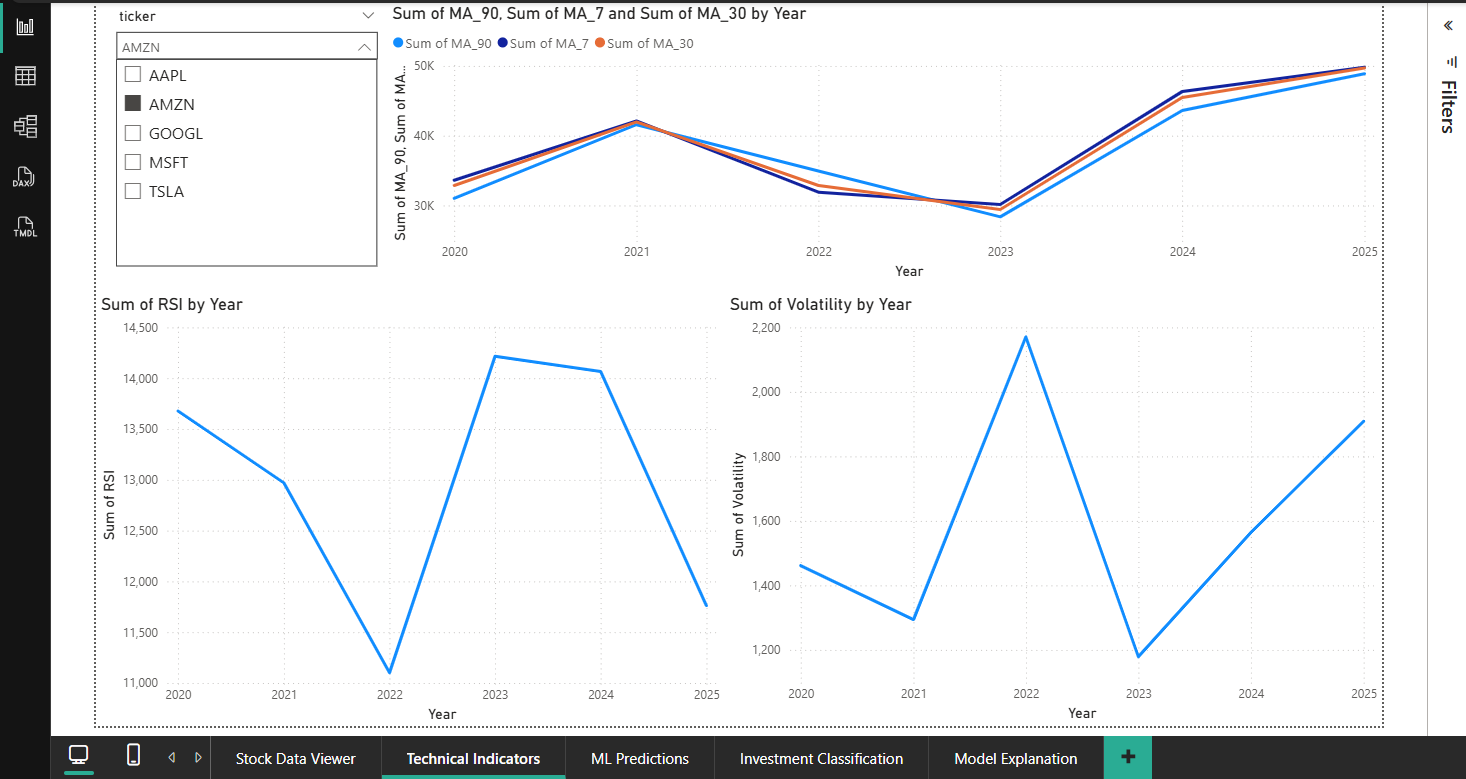

The dashboard page shown, as its layout file describes it:
{"tool":"powerbi","page":{"name":"Technical Indicators","canvas":[1280,720],"ordinal":1},"visuals":[{"type":"slicer","fields":{"Values":["technical_indicators.ticker"]},"box":[10,0,280,280],"z":0},{"type":"lineChart","fields":{"Category":["technical_indicators.date.Variation.Date Hierarchy.Year","technical_indicators.date.Variation.Date Hierarchy.Quarter","technical_indicators.date.Variation.Date Hierarchy.Month","technical_indicators.date.Variation.Date Hierarchy.Day"],"Y":["Sum(technical_indicators.MA_90)","Sum(technical_indicators.MA_7)","Sum(technical_indicators.MA_30)"]},"box":[289.5,0,990.7,279.9],"z":1000},{"type":"lineChart","fields":{"Category":["technical_indicators.date.Variation.Date Hierarchy.Year","technical_indicators.date.Variation.Date Hierarchy.Quarter","technical_indicators.date.Variation.Date Hierarchy.Month","technical_indicators.date.Variation.Date Hierarchy.Day"],"Y":["Sum(technical_indicators.RSI)"]},"box":[0,289.5,625.7,430.9],"z":2000},{"type":"lineChart","fields":{"Category":["technical_indicators.date.Variation.Date Hierarchy.Year","technical_indicators.date.Variation.Date Hierarchy.Quarter","technical_indicators.date.Variation.Date Hierarchy.Month","technical_indicators.date.Variation.Date Hierarchy.Day"],"Y":["Sum(technical_indicators.Volatility)"]},"box":[626,290,654,430],"z":3000}]}

Visuals, with their boxes on the page's 1280x720 design canvas (x1, y1, x2, y2). These are canvas units, not pixel positions in the 1466x779 screenshot, which may show the page scaled, cropped or inside an application window:
slicer - technical_indicators.ticker: left=10, top=0, right=290, bottom=280
lineChart - technical_indicators.date.Variation.Date Hierarchy.Year x technical_indicators.date.Variation.Date Hierarchy.Quarter: left=290, top=0, right=1280, bottom=280
lineChart - technical_indicators.date.Variation.Date Hierarchy.Year x technical_indicators.date.Variation.Date Hierarchy.Quarter: left=0, top=290, right=626, bottom=720
lineChart - technical_indicators.date.Variation.Date Hierarchy.Year x technical_indicators.date.Variation.Date Hierarchy.Quarter: left=626, top=290, right=1280, bottom=720
